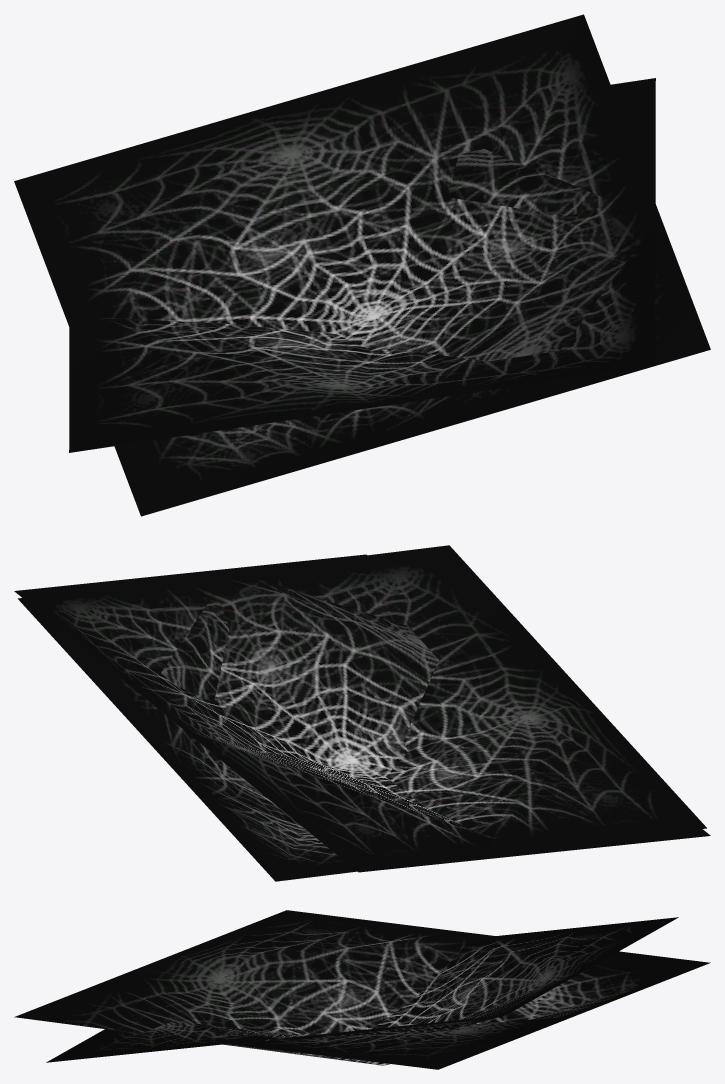
The model's file is DWARF_PALACE_SPIDERWEB24.fbx.
The picture shows the model from 3 angles, top to bottom: view 1: azimuth 30°, elevation 25°; view 2: azimuth 150°, elevation 25°; view 3: azimuth 270°, elevation 25°; orthographic projection. The views are drawn at different scales.
Parts seen in each view (by area): view 1: DWARF_PALACE_SPIDERWEB24; view 2: DWARF_PALACE_SPIDERWEB24; view 3: DWARF_PALACE_SPIDERWEB24.
Boxes of the visible parts, x1=… form: DWARF_PALACE_SPIDERWEB24: x1=14, y1=14, x2=710, y2=516; DWARF_PALACE_SPIDERWEB24: x1=14, y1=545, x2=710, y2=881; DWARF_PALACE_SPIDERWEB24: x1=14, y1=910, x2=710, y2=1069.
Bounding box in the file's own units: 97974 × 33209 × 98136.
1 material, 1 textured.
